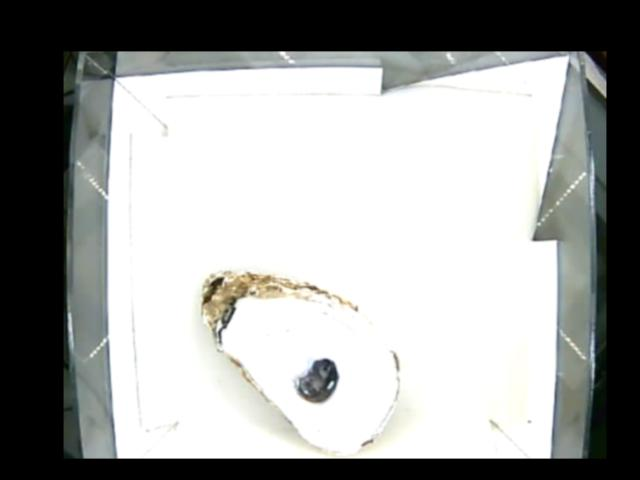Shell: (197, 269, 400, 457)
